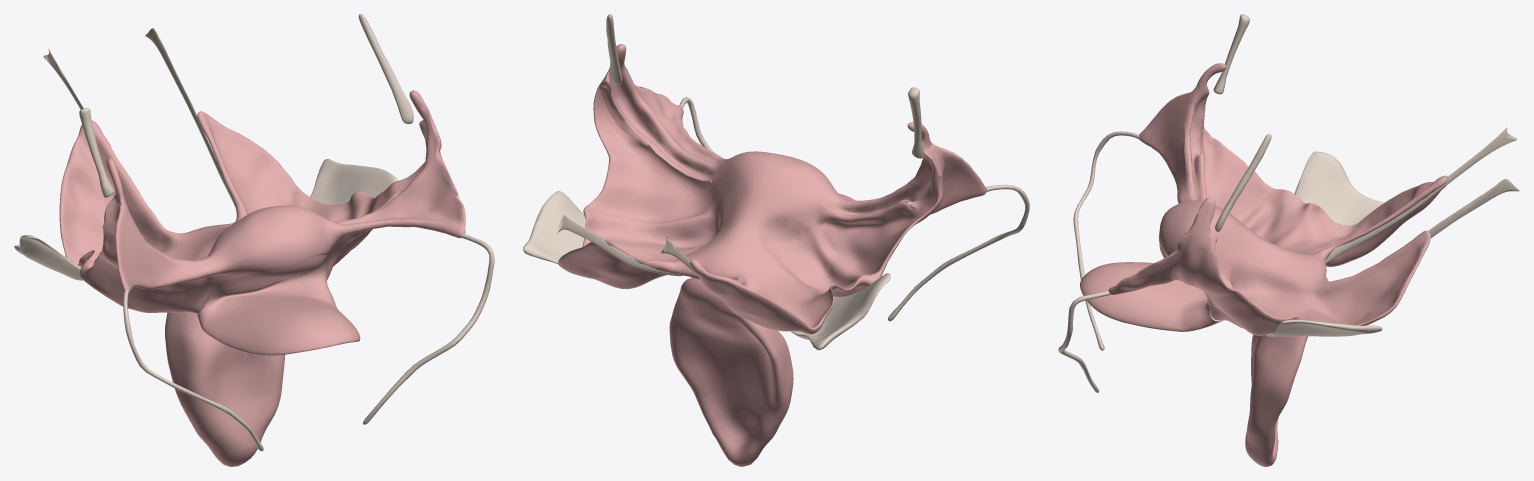
Rendered from female-reproductive-extra.glb.
The picture shows the model from 3 angles, left to right: view 1: azimuth 30°, elevation 25°; view 2: azimuth 150°, elevation 25°; view 3: azimuth 270°, elevation 25°; orthographic projection. The views are drawn at different scales.
Visible parts, largest first — view 1: VH_F_broad_ligament, VH_F_vagina, VH_F_uterovesical_pouch, VH_F_left_cardinal_ligament_of_uterus, VH_F_mesosalpinx_L, VH_F_right_round_ligament_of_uterus, VH_F_mesosalpinx_R, VH_F_right_cardinal_ligament_of_uterus, VH_F_left_round_ligament_of_uterus, VH_F_suspensory_ligament_of_ovary_L, VH_F_left_uterosacral_ligament, VH_F_suspensory_ligament_of_ovary_R; view 2: VH_F_broad_ligament, VH_F_vagina, VH_F_mesosalpinx_L, VH_F_cervicovaginal_junction, VH_F_left_cardinal_ligament_of_uterus, VH_F_mesosalpinx_R, VH_F_right_cardinal_ligament_of_uterus, VH_F_left_round_ligament_of_uterus, VH_F_left_uterosacral_ligament, VH_F_mesovarium_L, VH_F_suspensory_ligament_of_ovary_R, VH_F_suspensory_ligament_of_ovary_L; view 3: VH_F_broad_ligament, VH_F_uterovesical_pouch, VH_F_vagina, VH_F_right_cardinal_ligament_of_uterus, VH_F_mesosalpinx_L, VH_F_mesosalpinx_R, VH_F_left_cardinal_ligament_of_uterus, VH_F_right_uterosacral_ligament, VH_F_left_round_ligament_of_uterus, VH_F_left_uterosacral_ligament, VH_F_suspensory_ligament_of_ovary_L, VH_F_right_round_ligament_of_uterus (+1 smaller).
Boxes of the visible parts, x1,y1,x2,y2 form: VH_F_broad_ligament: (59, 107, 465, 313); VH_F_vagina: (165, 312, 285, 466); VH_F_uterovesical_pouch: (197, 255, 360, 355); VH_F_left_cardinal_ligament_of_uterus: (310, 159, 397, 204); VH_F_mesosalpinx_L: (330, 90, 434, 252); VH_F_right_round_ligament_of_uterus: (363, 234, 494, 424); VH_F_mesosalpinx_R: (102, 158, 216, 276); VH_F_right_cardinal_ligament_of_uterus: (14, 235, 82, 280); VH_F_left_round_ligament_of_uterus: (123, 289, 263, 451); VH_F_suspensory_ligament_of_ovary_L: (358, 14, 413, 123); VH_F_left_uterosacral_ligament: (145, 28, 235, 207); VH_F_suspensory_ligament_of_ovary_R: (79, 108, 114, 197); VH_F_broad_ligament: (558, 68, 987, 334); VH_F_vagina: (669, 316, 793, 466); VH_F_mesosalpinx_L: (607, 44, 720, 181); VH_F_cervicovaginal_junction: (672, 278, 775, 337); VH_F_left_cardinal_ligament_of_uterus: (523, 191, 585, 264); VH_F_mesosalpinx_R: (819, 122, 944, 215); VH_F_right_cardinal_ligament_of_uterus: (791, 273, 890, 350); VH_F_left_round_ligament_of_uterus: (888, 184, 1029, 321); VH_F_left_uterosacral_ligament: (556, 215, 682, 276); VH_F_mesovarium_L: (600, 72, 652, 145); VH_F_suspensory_ligament_of_ovary_R: (908, 87, 924, 158); VH_F_suspensory_ligament_of_ovary_L: (606, 14, 622, 84); VH_F_broad_ligament: (1108, 92, 1447, 336); VH_F_uterovesical_pouch: (1080, 244, 1222, 331); VH_F_vagina: (1245, 335, 1304, 466); VH_F_right_cardinal_ligament_of_uterus: (1294, 151, 1384, 225); VH_F_mesosalpinx_L: (1170, 197, 1215, 288); VH_F_mesosalpinx_R: (1184, 63, 1226, 200); VH_F_left_cardinal_ligament_of_uterus: (1265, 319, 1382, 336); VH_F_right_uterosacral_ligament: (1325, 127, 1516, 263); VH_F_left_round_ligament_of_uterus: (1073, 131, 1139, 350); VH_F_left_uterosacral_ligament: (1428, 179, 1519, 237); VH_F_suspensory_ligament_of_ovary_L: (1215, 134, 1271, 232); VH_F_right_round_ligament_of_uterus: (1058, 290, 1110, 392).
Size of the model in its own units: 0.1471 by 0.159 by 0.1706.
